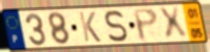3: (24, 12, 47, 47)
8: (47, 10, 72, 47)
K: (77, 11, 103, 44)
P: (131, 7, 160, 43)
S: (104, 9, 129, 44)
X: (156, 6, 190, 42)
